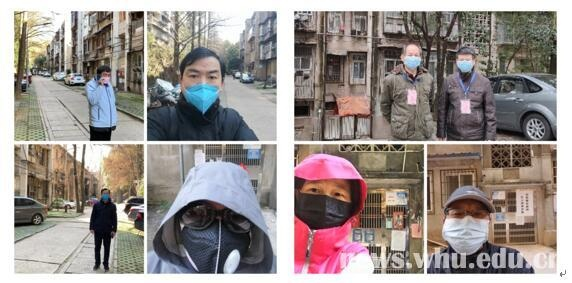correctlyWear: (146, 187, 275, 275), (442, 185, 495, 255), (293, 176, 354, 229), (179, 59, 223, 115), (400, 50, 422, 70), (455, 54, 478, 73), (99, 72, 110, 85), (102, 191, 110, 202)
